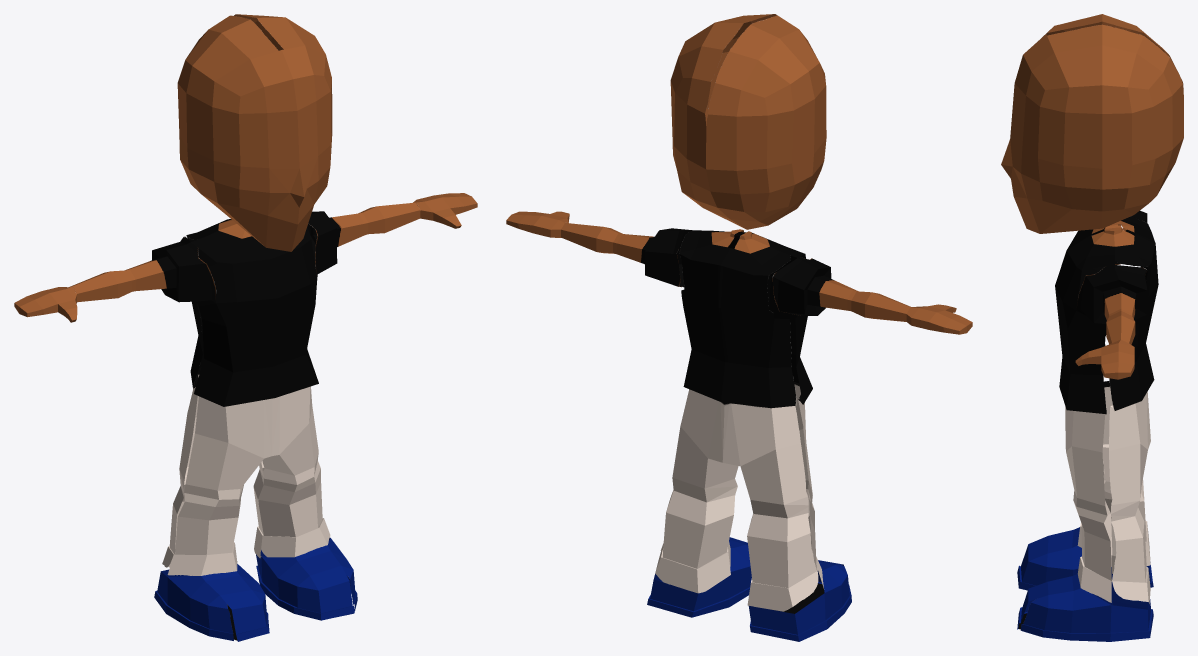
The model's file is JDlowpoly.fbx.
3 views of the same model, side by side, from view 1: azimuth 30°, elevation 25°; view 2: azimuth 150°, elevation 25°; view 3: azimuth 270°, elevation 25° (orthographic).
Visible parts, largest first — view 1: Cube.001; view 2: Cube.001; view 3: Cube.001.
Part boxes in pixels (box(x1,y1,x2,y2)): Cube.001: box(14, 14, 477, 641); Cube.001: box(506, 14, 972, 641); Cube.001: box(1001, 14, 1183, 641).
Size of the model in its own units: 295 by 361 by 103.
Materials: 1 (1 with a texture image).
